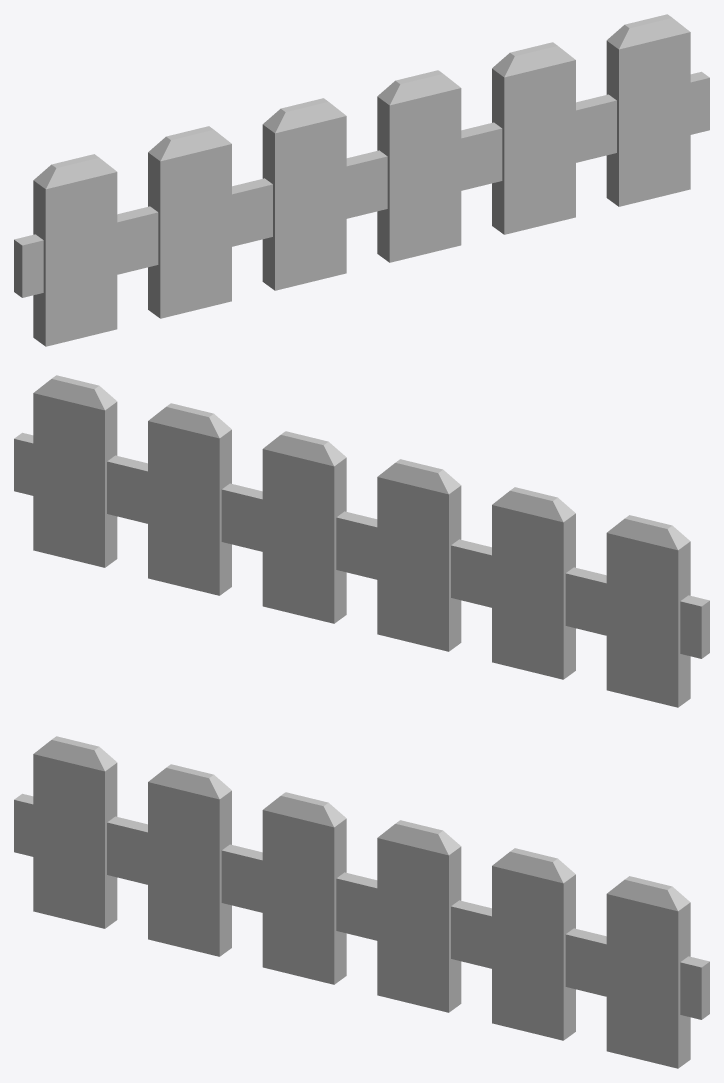
Rendered from fence.fbx.
3 views of the same model, one above another, from view 1: azimuth 30°, elevation 25°; view 2: azimuth 150°, elevation 25°; view 3: azimuth 330°, elevation 25° (orthographic).
Visible parts, largest first — view 1: fence; view 2: fence; view 3: fence.
Part boxes in pixels (x1,y1,x2,y2): fence: [14, 14, 709, 346]; fence: [14, 375, 709, 707]; fence: [14, 736, 709, 1068].
Size of the model in its own units: 96 by 23 by 3.
